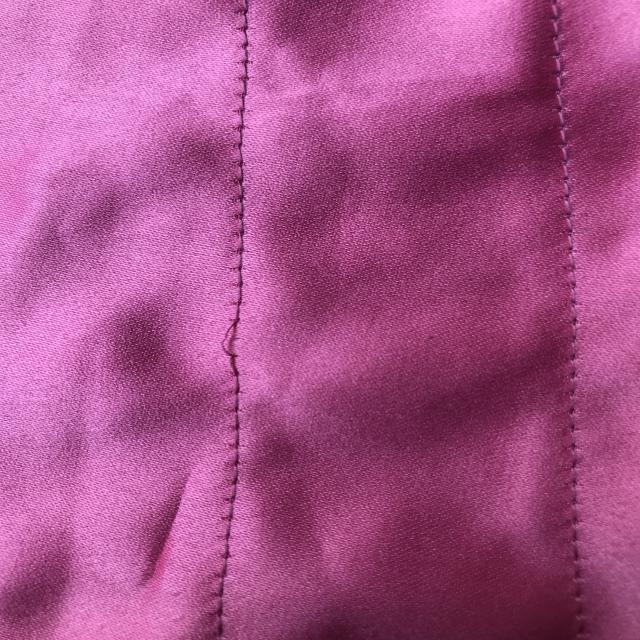skip: (202, 310, 260, 364)
